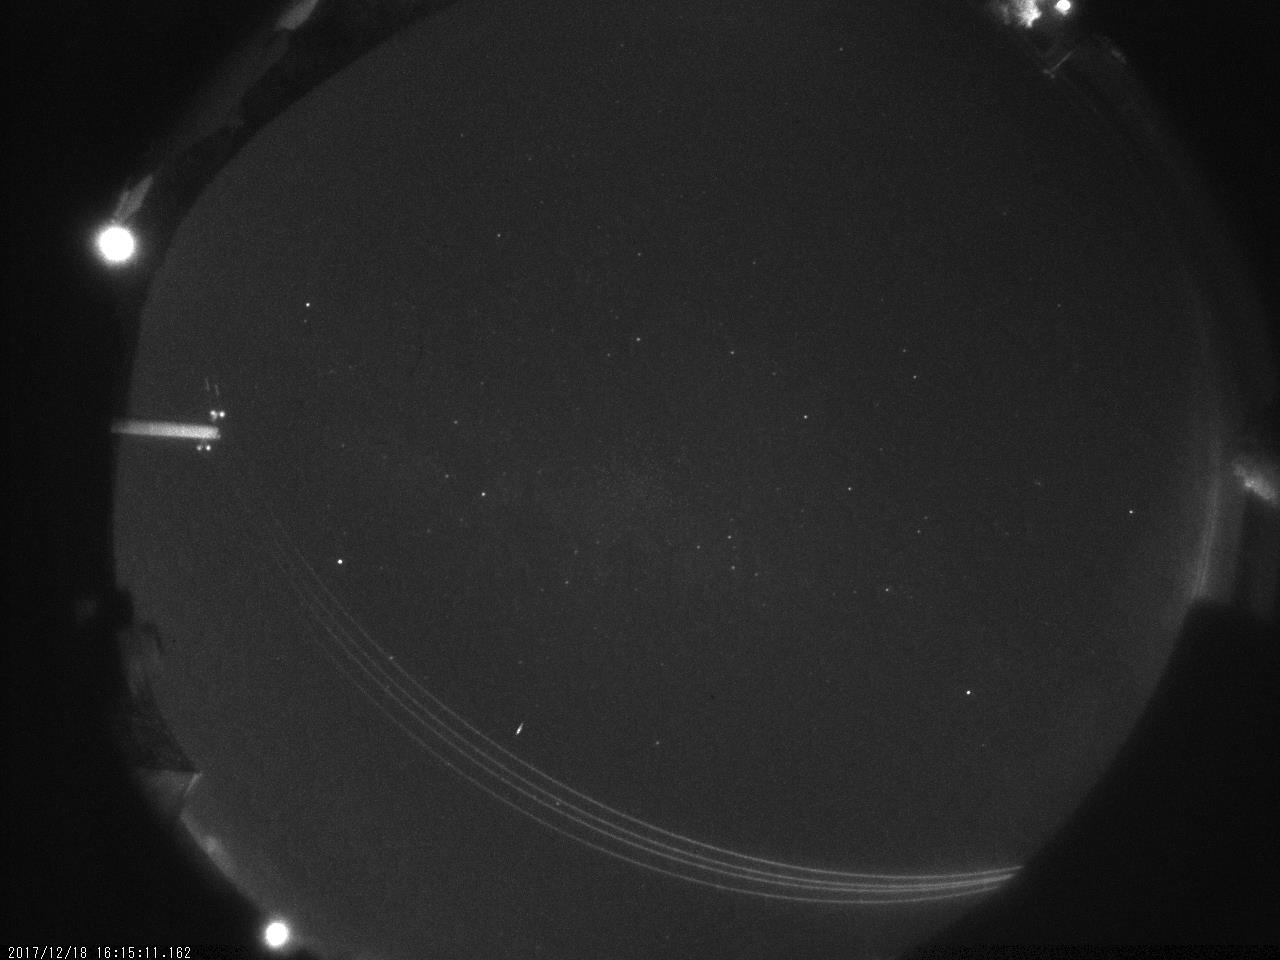meteor: (503, 709, 535, 741)
